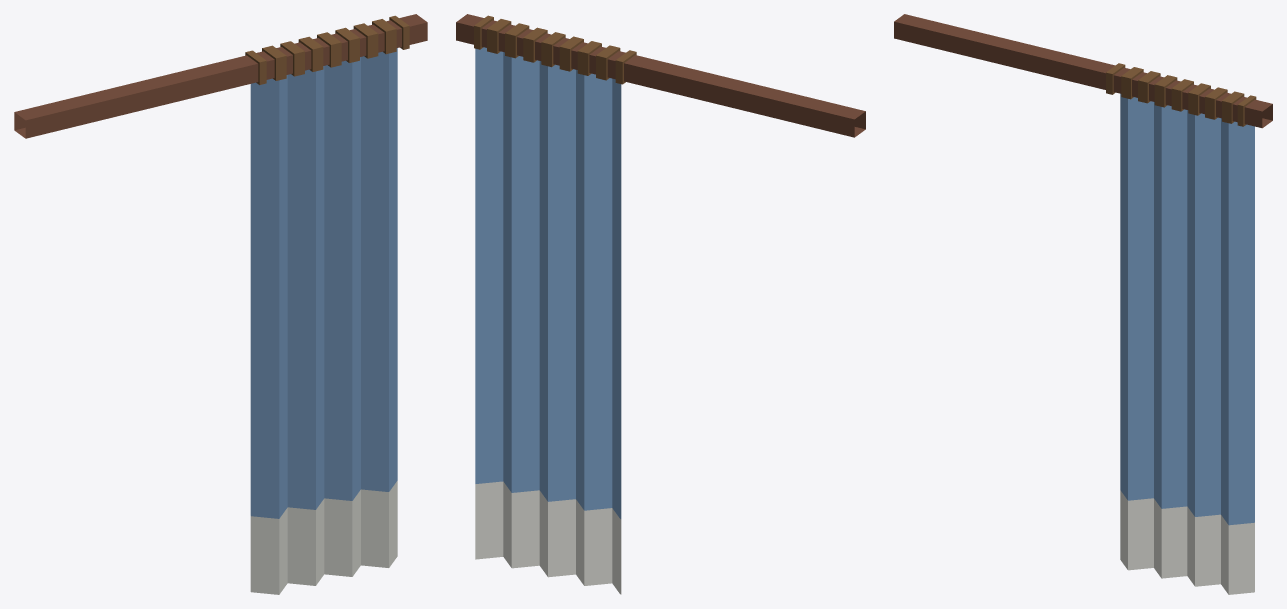
File: Curtain_2B.fbx
The picture shows the model from 3 angles, left to right: view 1: azimuth 30°, elevation 25°; view 2: azimuth 150°, elevation 25°; view 3: azimuth 330°, elevation 25°; orthographic projection. The views are drawn at different scales.
Visible parts, largest first — view 1: polySurface1825; view 2: polySurface1825; view 3: polySurface1825.
Boxes of the visible parts, bbox=[...] form: polySurface1825: bbox=[14, 14, 427, 594]; polySurface1825: bbox=[456, 14, 865, 594]; polySurface1825: bbox=[894, 14, 1272, 594].
Bounding box in the file's own units: 2.4 × 3.08 × 0.1452.
1 material, 1 textured.
